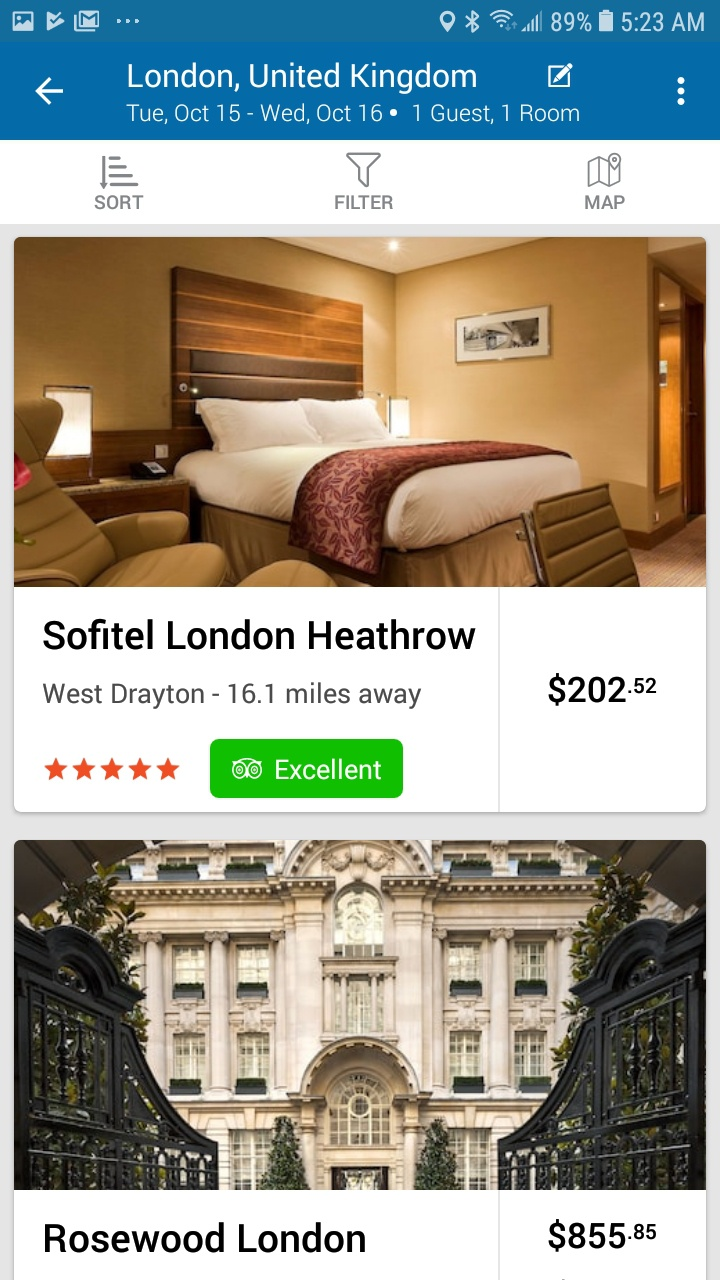Icon: (44, 757, 181, 781), (100, 156, 140, 191), (587, 153, 622, 189), (35, 77, 65, 107), (546, 61, 574, 87), (676, 73, 685, 107)
Image: (14, 237, 707, 588), (14, 840, 706, 1190), (346, 152, 382, 188)
Text: (43, 619, 477, 651), (128, 62, 477, 96), (43, 682, 422, 710), (45, 1222, 366, 1254), (126, 104, 580, 126), (548, 673, 657, 707), (548, 1219, 657, 1253), (335, 195, 394, 210), (95, 195, 145, 211), (584, 195, 625, 210)
TextButton: (210, 739, 404, 799)
UpperTaskBar: (1, 1, 720, 43)
